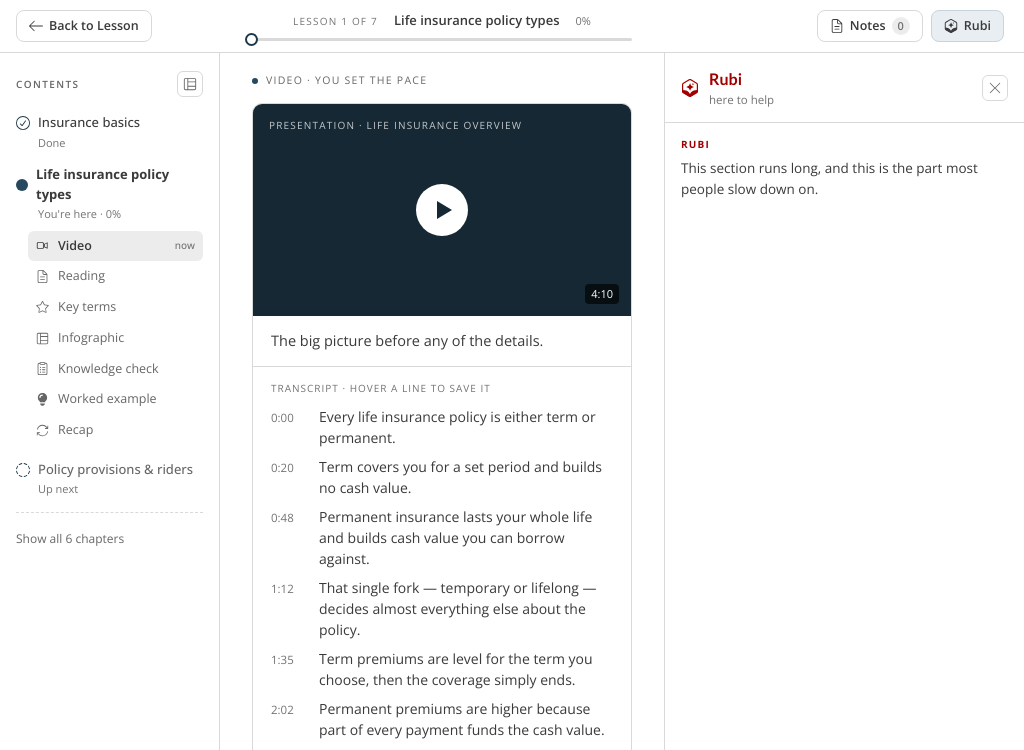
it: the Key terms beat › asks her question and offers her three levels, in her order
Click the button "Key terms": (116, 307) [28, 292, 203, 323]
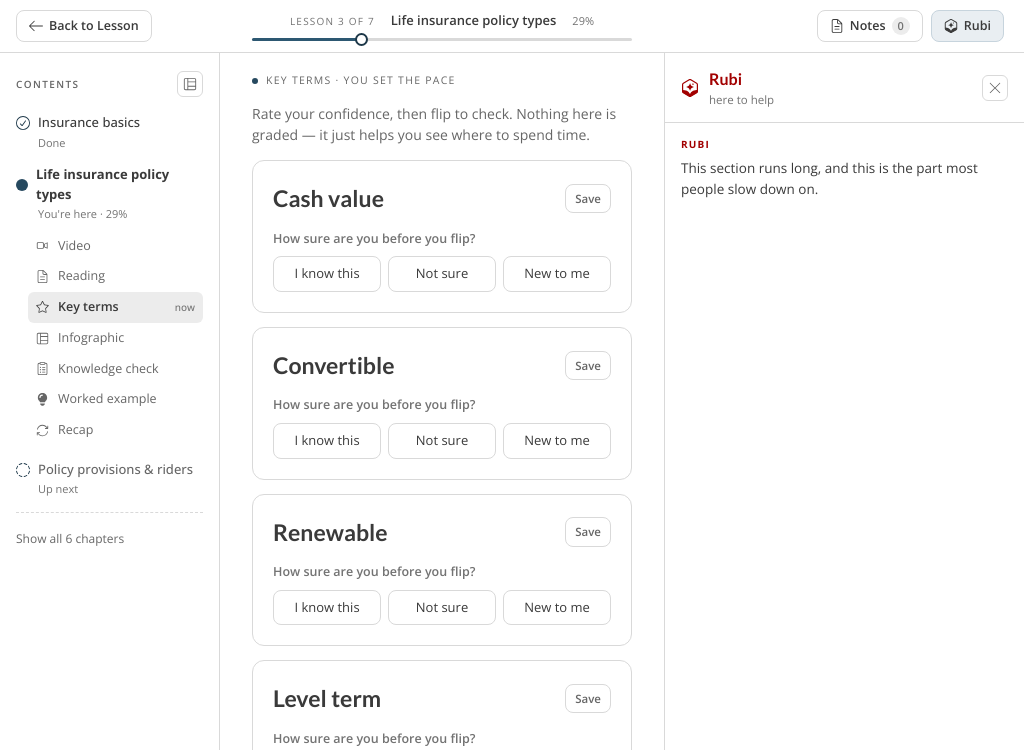
Result: the text "How sure are you before you flip?" below "Cash value" is shown at [273, 230, 475, 247]
Result: the buttons read "I know this", "Not sure", "New to me", in this order at [273, 256, 381, 292]; [388, 256, 496, 292]; [503, 256, 611, 292]
